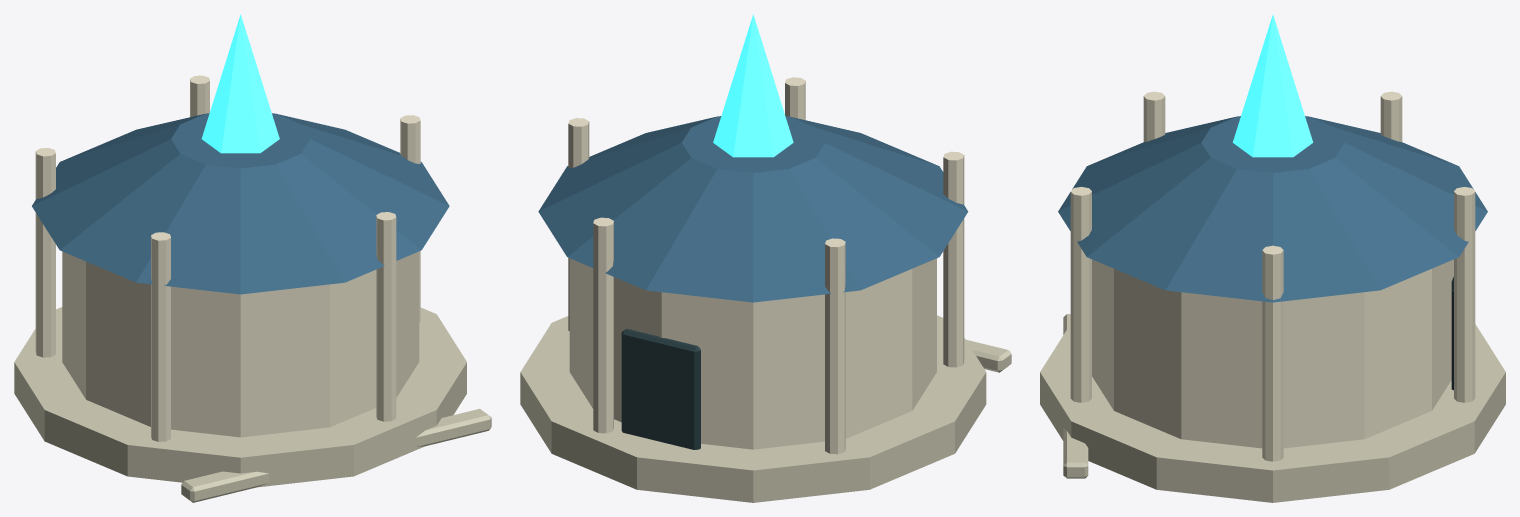
The model's file is level_07.glb.
3 views of the same model, side by side, from view 1: azimuth 30°, elevation 25°; view 2: azimuth 150°, elevation 25°; view 3: azimuth 270°, elevation 25° (orthographic). The views are drawn at different scales.
Parts seen in each view (by area): view 1: mage_guild — level 07; view 2: mage_guild — level 07; view 3: mage_guild — level 07.
Boxes of the visible parts, x1=… form: mage_guild — level 07: x1=14, y1=14, x2=491, y2=502; mage_guild — level 07: x1=520, y1=14, x2=1011, y2=502; mage_guild — level 07: x1=1040, y1=15, x2=1505, y2=502.
Bounding box in the file's own units: 5.2 × 4.81 × 5.2.
